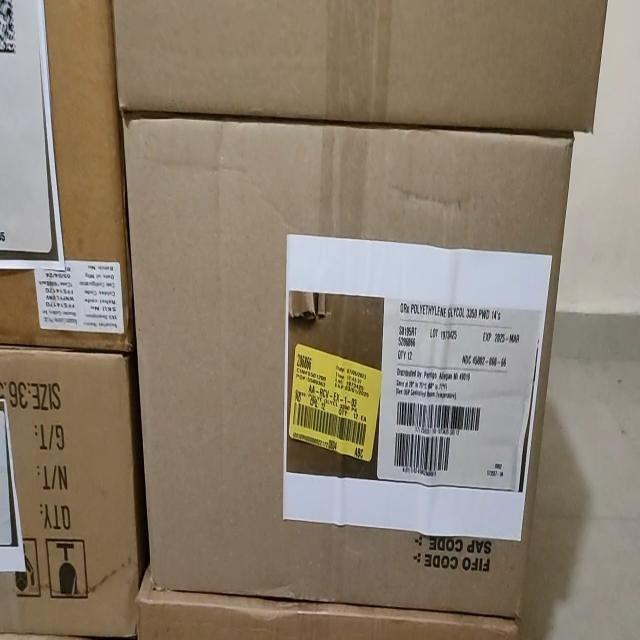BoxFace: (115, 100, 576, 623), (0, 342, 142, 638)
